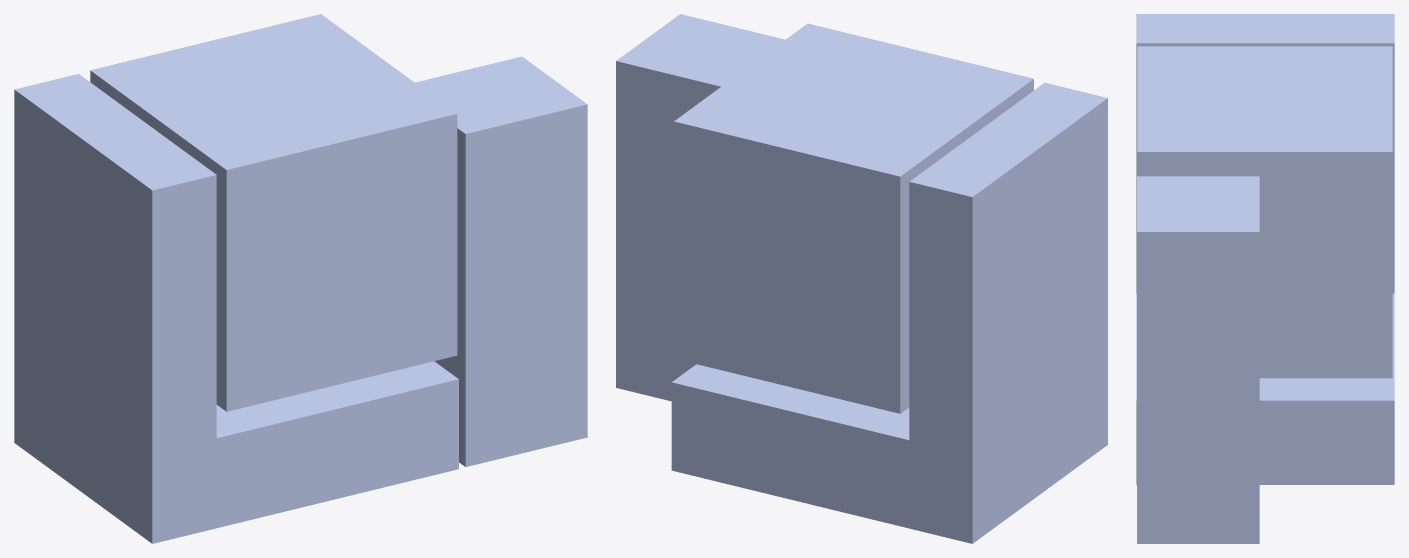
Rendered from NeoEco_Water.glb.
The picture shows the model from 3 angles, left to right: view 1: azimuth 30°, elevation 25°; view 2: azimuth 150°, elevation 25°; view 3: azimuth 270°, elevation 25°; orthographic projection. The views are drawn at different scales.
Visible parts, largest first — view 1: Chamber_01, Chamber_02, Chamber_03; view 2: Chamber_01, Chamber_02, Chamber_03; view 3: Chamber_02, Chamber_03, Chamber_01.
Boxes of the visible parts, x1,y1,x2,y2 form: Chamber_01: (14, 74, 458, 543); Chamber_02: (90, 14, 457, 411); Chamber_03: (415, 56, 587, 466); Chamber_01: (671, 82, 1107, 543); Chamber_02: (674, 23, 1033, 413); Chamber_03: (616, 14, 784, 401); Chamber_02: (1137, 46, 1392, 378); Chamber_03: (1137, 176, 1259, 543); Chamber_01: (1136, 14, 1394, 484).
Bounding box in the file's own units: 3.09 × 2.41 × 1.7.
